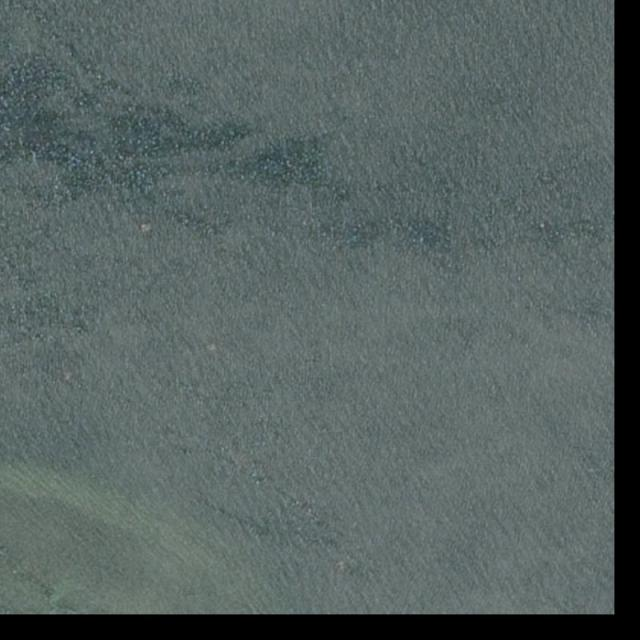ship: (138, 224, 153, 234), (64, 371, 73, 382), (208, 344, 218, 353)
